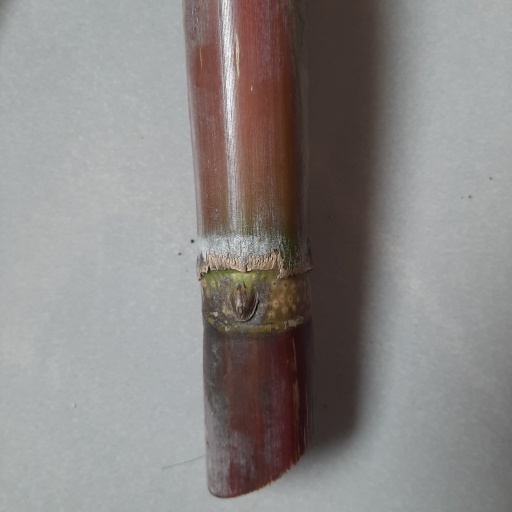Bud: (230, 283, 258, 321)
